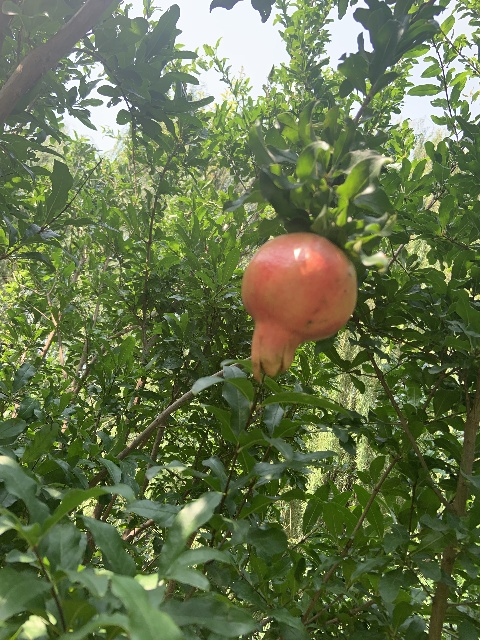ripe: (241, 232, 357, 381)
